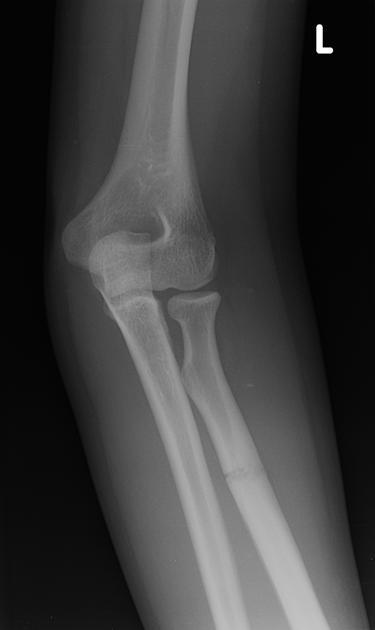fractured: (220, 470, 244, 482)
